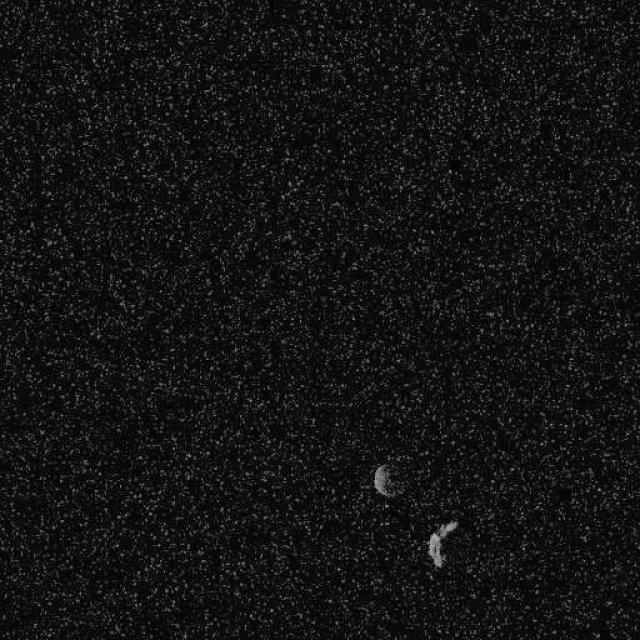D2: (426, 519, 459, 569), (372, 462, 398, 498)
